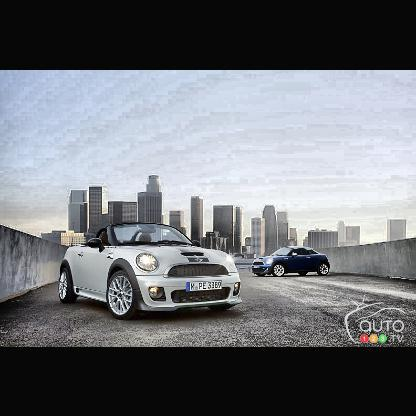MINI Cooper Roadster Convertible 2012: (58, 221, 243, 322)
